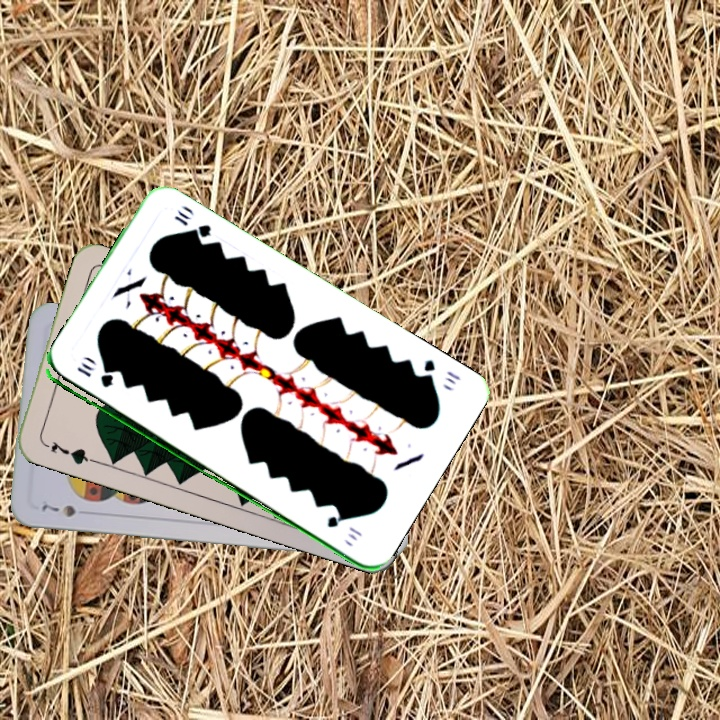G10: (416, 355, 463, 387), (73, 358, 115, 391)
G7: (39, 436, 96, 467)
S7: (37, 496, 78, 520)
